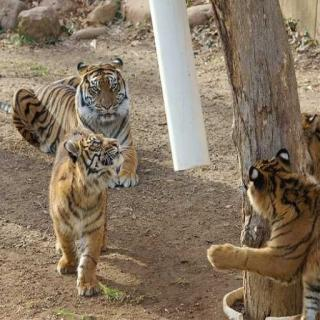Tiger: (203, 140, 320, 320), (13, 50, 148, 188), (44, 129, 131, 302)
